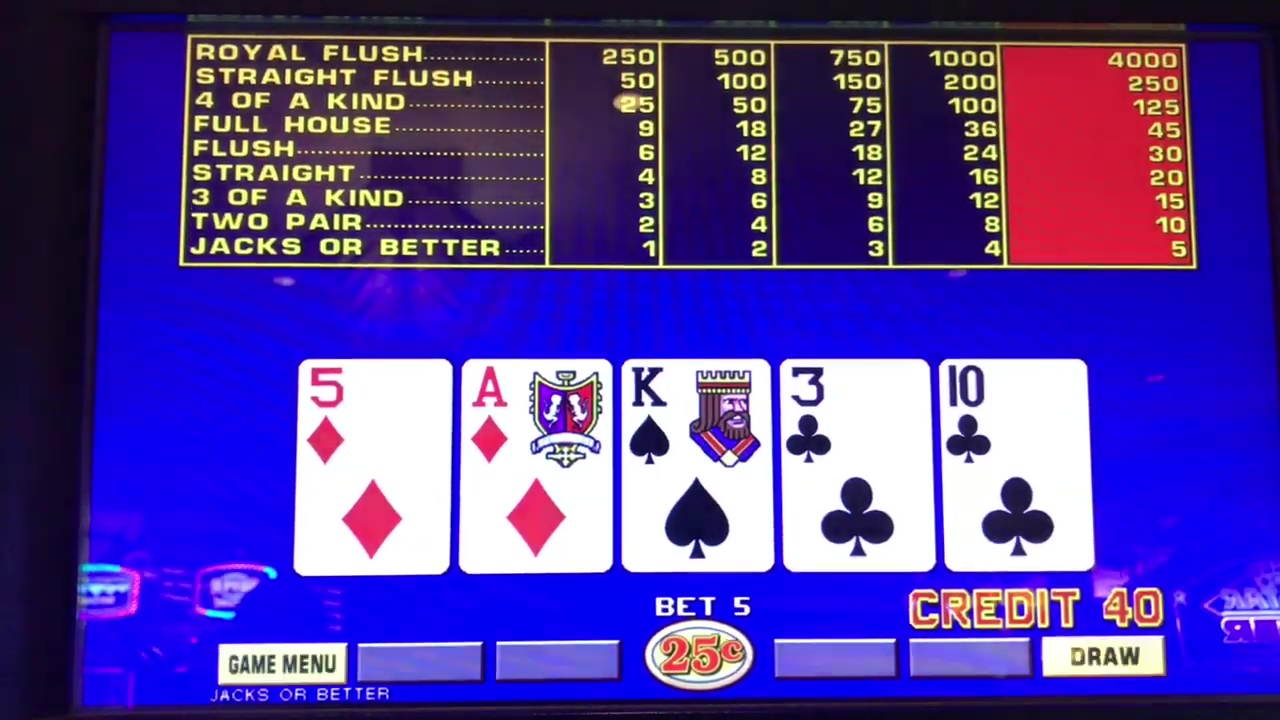C3: (783, 360, 930, 464)
CT: (949, 361, 1083, 465)
D5: (303, 361, 443, 466)
DA: (463, 359, 606, 461)
SK: (628, 360, 767, 463)
